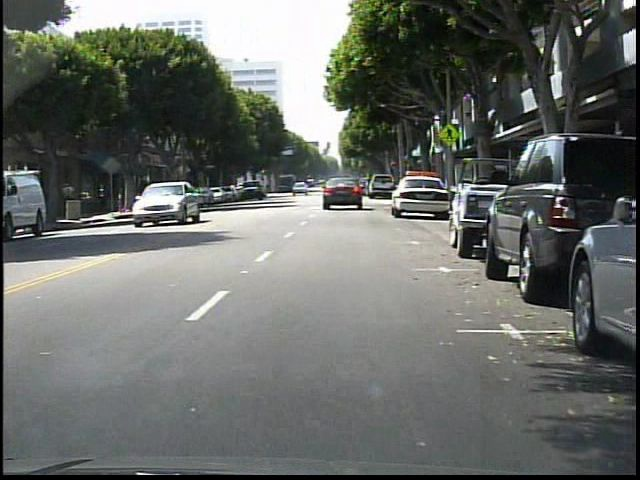person: (61, 179, 79, 221)
